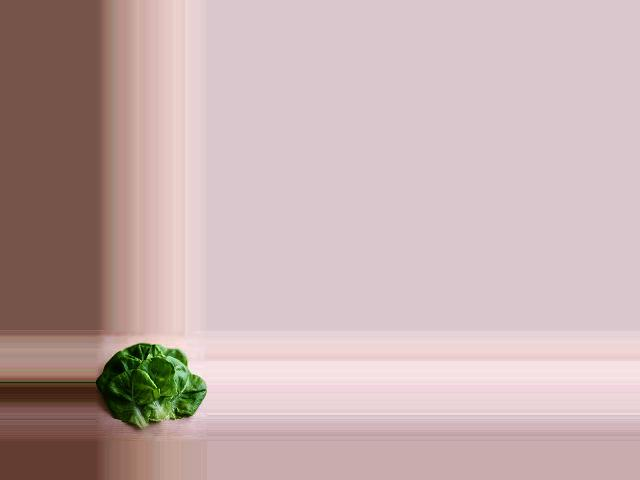lettuce: (98, 343, 203, 424)
